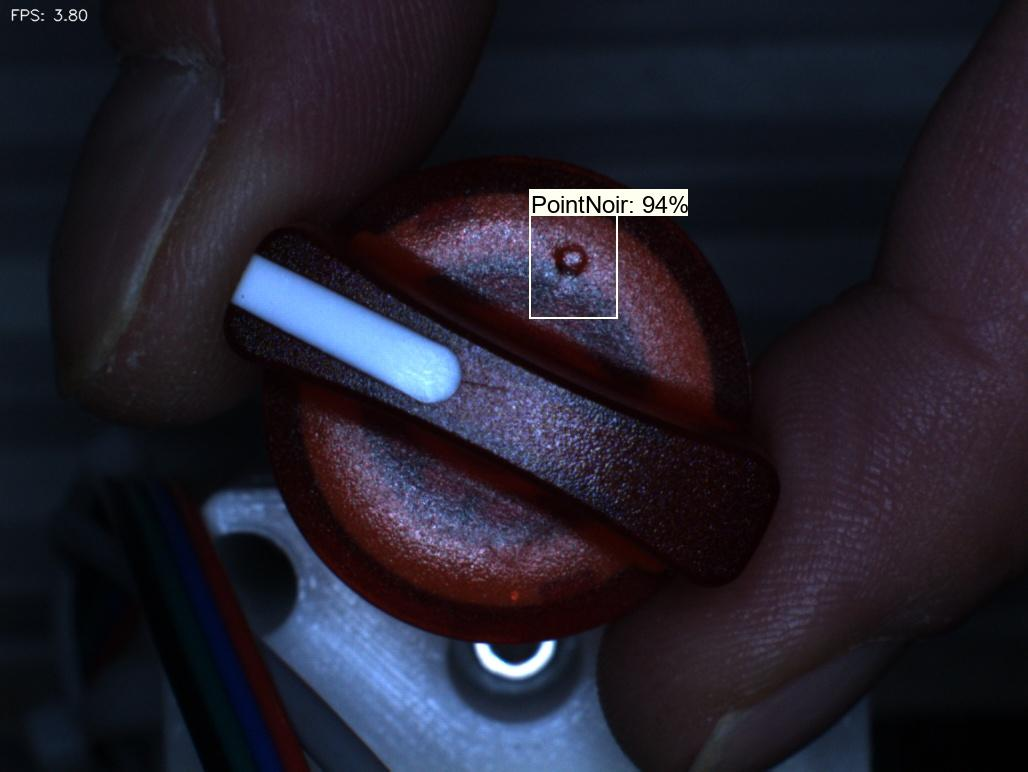Choc: (535, 221, 619, 313)
